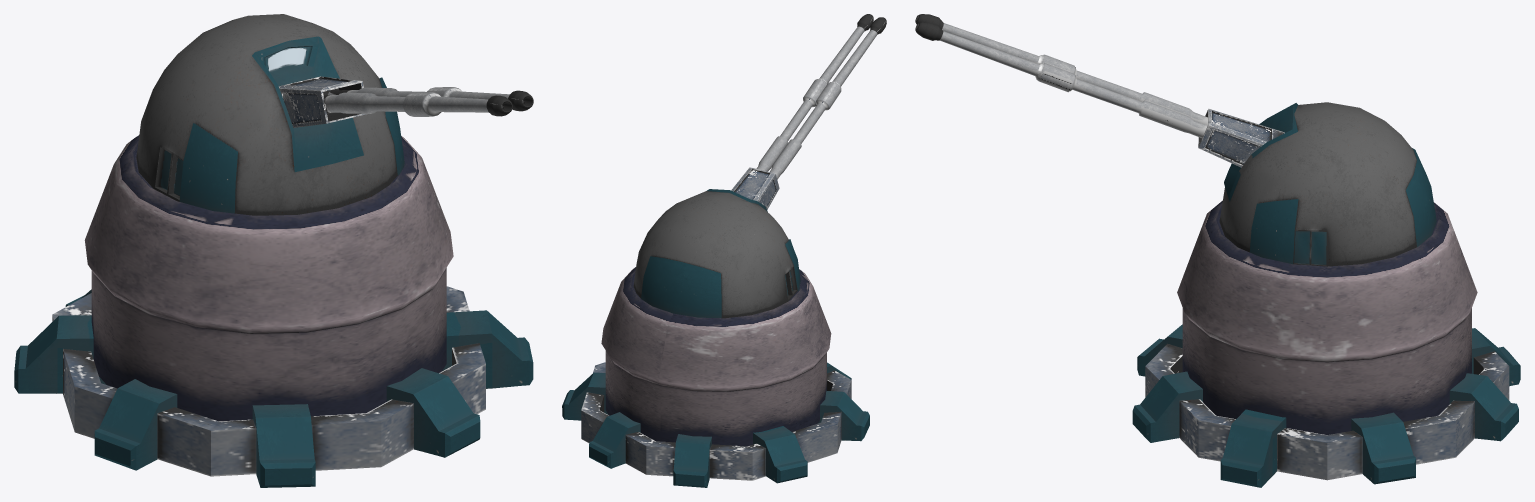
The model's file is turret textured ish.fbx.
The picture shows the model from 3 angles, left to right: view 1: azimuth 30°, elevation 25°; view 2: azimuth 150°, elevation 25°; view 3: azimuth 270°, elevation 25°; orthographic projection. The views are drawn at different scales.
Visible parts, largest first — view 1: body, Head, Cog, Poot7, Poot1, Poot, Poot6, Poot2, Gun2, Gunmouth, Gun1; view 2: body, Head, Cog, Gun2, Poot2, Gun1, Poot3, Poot4, Poot1, Gunmouth, Poot5; view 3: body, Head, Cog, Gun1, Poot6, Poot5, Poot7, Poot4, Gunmouth, Gun2, Poot3, Poot.
Boxes of the visible parts, bbox=[...] form: body: bbox=[84, 135, 453, 421]; Head: bbox=[136, 14, 404, 215]; Cog: bbox=[52, 286, 485, 476]; Poot7: bbox=[386, 368, 480, 457]; Poot1: bbox=[94, 379, 177, 470]; Poot: bbox=[252, 404, 315, 487]; Poot6: bbox=[442, 310, 533, 388]; Poot2: bbox=[14, 315, 106, 393]; Gun2: bbox=[323, 92, 512, 116]; Gunmouth: bbox=[278, 76, 366, 127]; Gun1: bbox=[328, 87, 533, 111]; body: bbox=[601, 267, 831, 446]; Head: bbox=[633, 189, 800, 318]; Cog: bbox=[581, 362, 851, 480]; Gun2: bbox=[770, 17, 886, 179]; Poot2: bbox=[753, 426, 807, 483]; Gun1: bbox=[756, 14, 873, 171]; Poot3: bbox=[673, 434, 711, 487]; Poot4: bbox=[589, 412, 640, 468]; Poot1: bbox=[818, 391, 869, 441]; Gunmouth: bbox=[731, 167, 779, 209]; Poot5: bbox=[562, 372, 608, 420]; body: bbox=[1177, 200, 1477, 434]; Head: bbox=[1219, 102, 1436, 266]; Cog: bbox=[1145, 343, 1509, 480]; Gun1: bbox=[915, 22, 1207, 137]; Poot6: bbox=[1220, 409, 1286, 487]; Poot5: bbox=[1351, 412, 1415, 484]; Poot7: bbox=[1132, 371, 1202, 442]; Poot4: bbox=[1449, 373, 1518, 441]; Gunmouth: bbox=[1198, 108, 1284, 167]; Gun2: bbox=[915, 14, 1207, 125]; Poot3: bbox=[1472, 328, 1520, 386]; Poot: bbox=[1137, 324, 1182, 376].
Size of the model in its own units: 11.64 by 12.47 by 17.84.
